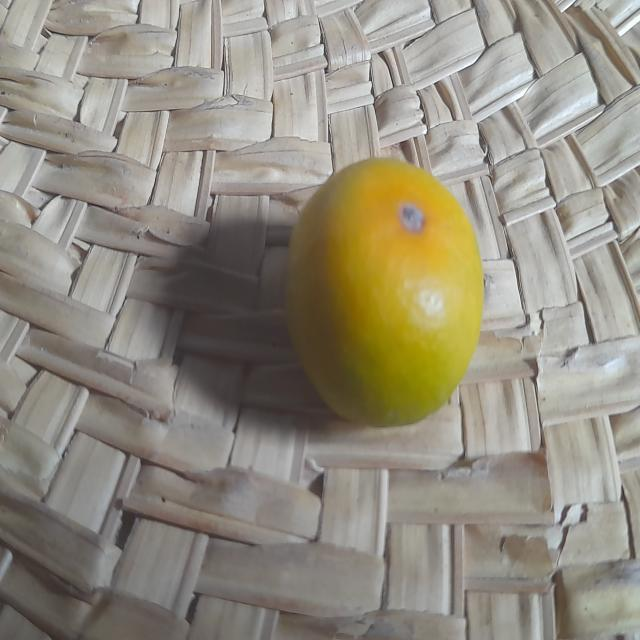greening: (285, 150, 489, 430)
